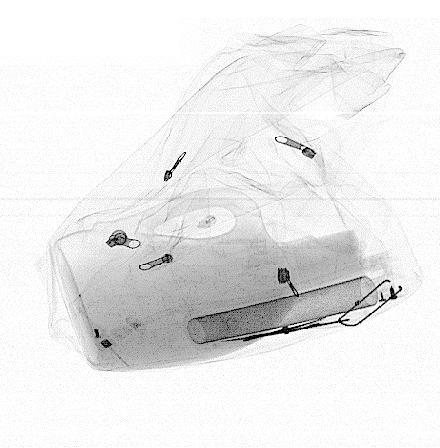Scissors: (220, 296, 375, 343)
